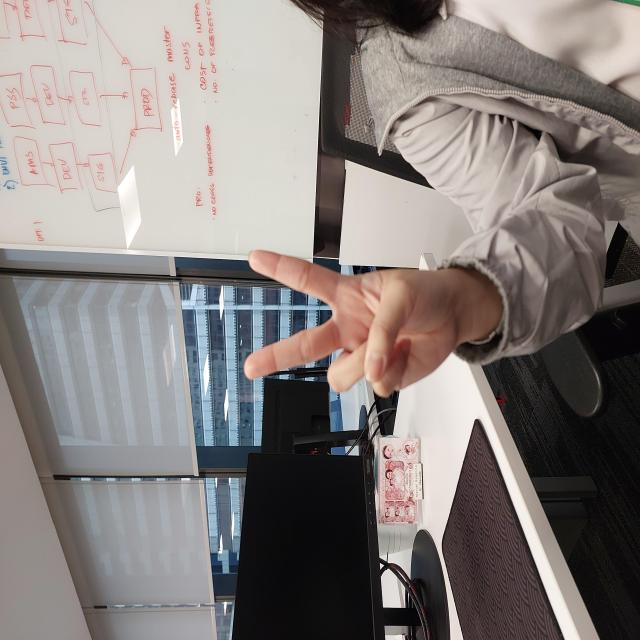V: (242, 243, 392, 456)
